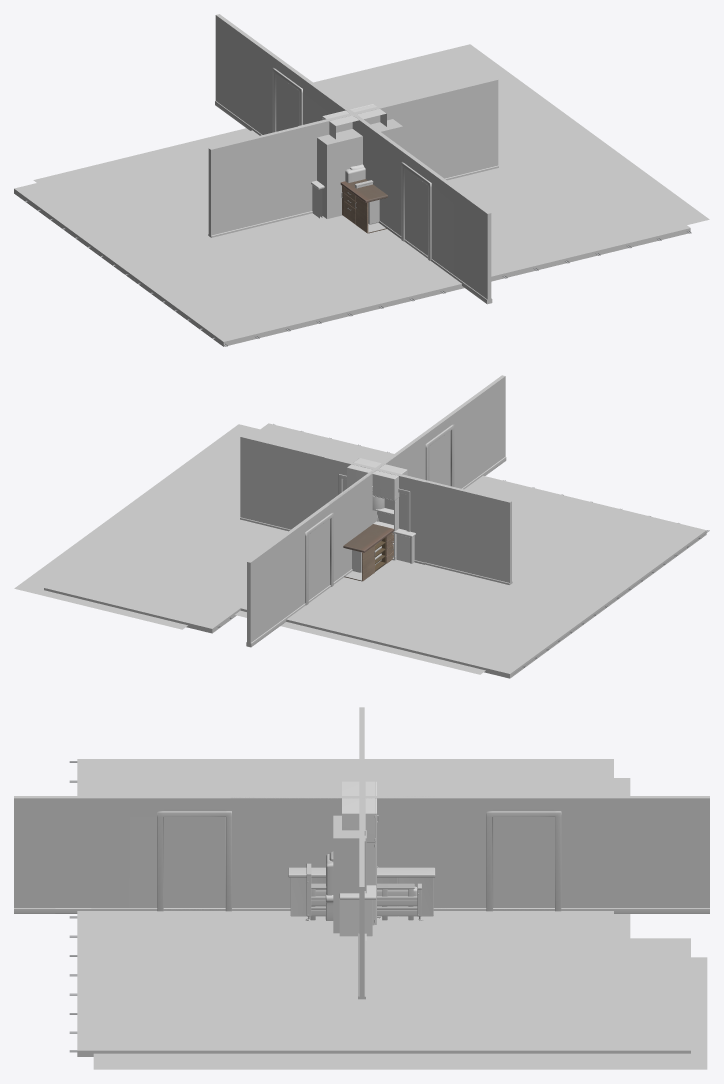
Rendered from SM_GeriatricNurseRoom.fbx.
The picture shows the model from 3 angles, top to bottom: view 1: azimuth 30°, elevation 25°; view 2: azimuth 150°, elevation 25°; view 3: azimuth 270°, elevation 25°; orthographic projection. The views are drawn at different scales.
Parts seen in each view (by area): view 1: SM_GeriatricNurse_Roof, SM_Geriatric_Nurse_Wall_E, SM_Geriatric_Nurse_Wall_B, SM_GeriatricNurse_Floor, SM_Geriatric_Nurse_Wall_G, SM_Geriatric_Nurse_Wall_D, SM_Geriatric_Nurse_ClosetWall_A, SM_Geriatric_Nurse_Wall_A, SM_Geriatric_Nurse_Wall_F, SM_KitchenCabinet_C, SM_Closet_B; view 2: SM_GeriatricNurse_Roof, SM_Geriatric_Nurse_Wall_E, SM_Geriatric_Nurse_Wall_B, SM_GeriatricNurse_Floor, SM_Geriatric_Nurse_Wall_G, SM_Geriatric_Nurse_Wall_F, SM_Geriatric_Nurse_ClosetWall_A, SM_Geriatric_Nurse_Wall_A, SM_Closet_B, SM_KitchenCabinet_C, SM_Geriatric_Nurse_Wall_D, SM_Dresser_A; view 3: SM_GeriatricNurse_Roof, SM_Geriatric_Nurse_Wall_B, SM_Geriatric_Nurse_Wall_G, SM_Geriatric_Nurse_Wall_A, SM_GeriatricNurse_Floor, SM_Geriatric_Nurse_Wall_D, SM_Geriatric_Nurse_ClosetWall_A, SM_KitchenCabinet_D, SM_Closet_B, SM_Geriatric_Nurse_Wall_E, SM_GeriatricBed_A, SM_Dresser_A (+1 smaller).
Part boxes in pixels (bbox=[...]): SM_GeriatricNurse_Roof: bbox=[14, 52, 690, 346]; SM_Geriatric_Nurse_Wall_E: bbox=[208, 78, 498, 237]; SM_Geriatric_Nurse_Wall_B: bbox=[247, 37, 457, 279]; SM_GeriatricNurse_Floor: bbox=[33, 44, 709, 224]; SM_Geriatric_Nurse_Wall_G: bbox=[216, 15, 278, 135]; SM_Geriatric_Nurse_Wall_D: bbox=[275, 56, 459, 255]; SM_Geriatric_Nurse_ClosetWall_A: bbox=[298, 100, 405, 218]; SM_Geriatric_Nurse_Wall_A: bbox=[215, 14, 492, 304]; SM_Geriatric_Nurse_Wall_F: bbox=[233, 54, 474, 291]; SM_KitchenCabinet_C: bbox=[340, 179, 387, 233]; SM_Closet_B: bbox=[322, 104, 386, 139]; SM_GeriatricNurse_Roof: bbox=[44, 423, 706, 678]; SM_Geriatric_Nurse_Wall_E: bbox=[240, 435, 512, 584]; SM_Geriatric_Nurse_Wall_B: bbox=[277, 397, 477, 624]; SM_GeriatricNurse_Floor: bbox=[14, 424, 485, 674]; SM_Geriatric_Nurse_Wall_G: bbox=[248, 520, 306, 646]; SM_Geriatric_Nurse_Wall_F: bbox=[268, 386, 490, 630]; SM_Geriatric_Nurse_ClosetWall_A: bbox=[324, 457, 426, 564]; SM_Geriatric_Nurse_Wall_A: bbox=[246, 375, 506, 647]; SM_Closet_B: bbox=[347, 458, 407, 560]; SM_KitchenCabinet_C: bbox=[343, 524, 393, 581]; SM_Geriatric_Nurse_Wall_D: bbox=[305, 397, 475, 587]; SM_Dresser_A: bbox=[392, 528, 415, 563]; SM_GeriatricNurse_Roof: bbox=[77, 759, 690, 1056]; SM_Geriatric_Nurse_Wall_B: bbox=[91, 796, 627, 911]; SM_Geriatric_Nurse_Wall_G: bbox=[555, 796, 707, 913]; SM_Geriatric_Nurse_Wall_A: bbox=[14, 796, 709, 913]; SM_GeriatricNurse_Floor: bbox=[93, 778, 707, 1069]; SM_Geriatric_Nurse_Wall_D: bbox=[93, 796, 554, 910]; SM_Geriatric_Nurse_ClosetWall_A: bbox=[333, 763, 366, 940]; SM_KitchenCabinet_D: bbox=[288, 867, 435, 916]; SM_Closet_B: bbox=[342, 781, 378, 925]; SM_Geriatric_Nurse_Wall_E: bbox=[358, 707, 365, 999]; SM_GeriatricBed_A: bbox=[305, 863, 423, 920]; SM_Dresser_A: bbox=[339, 885, 376, 936].
Bounding box in the file's own units: 1377 × 277 × 1311.
